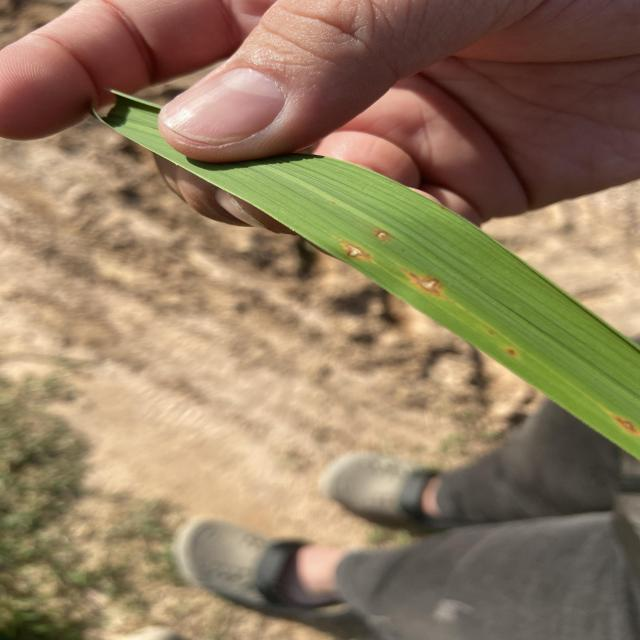Dao on: (408, 271, 443, 298), (344, 241, 373, 263), (613, 415, 640, 433), (377, 230, 389, 240), (506, 347, 516, 357)
